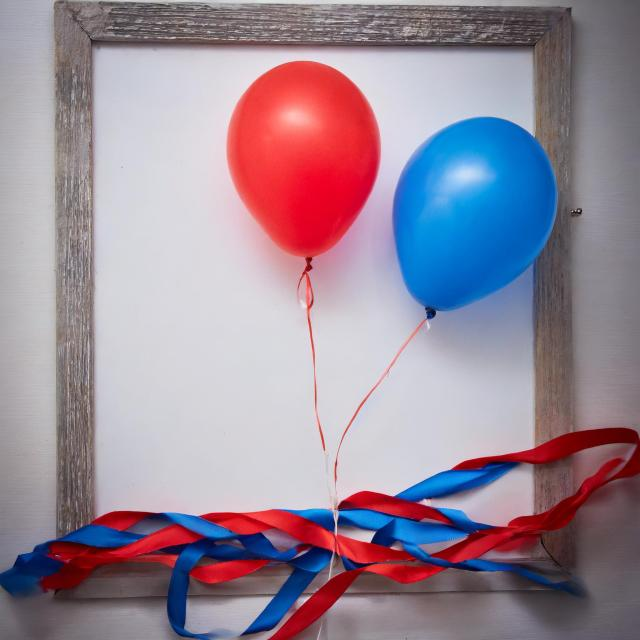blue: (392, 117, 559, 324), (228, 62, 381, 278)
